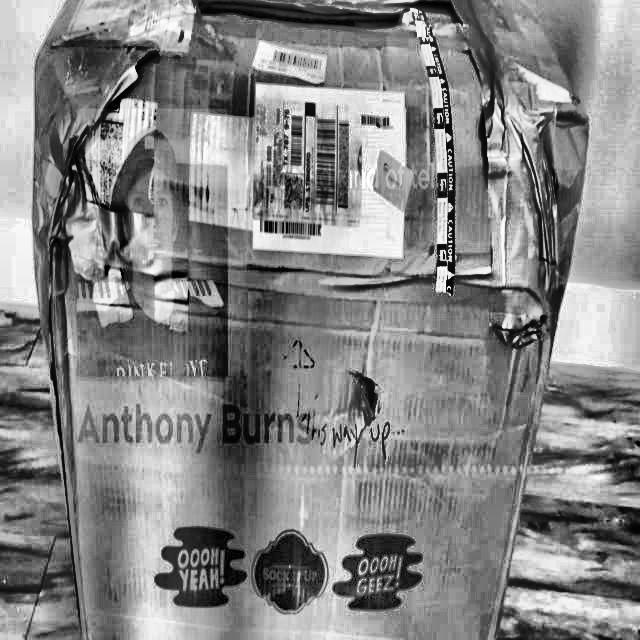box: (25, 0, 605, 639)
hole: (338, 370, 389, 434)
